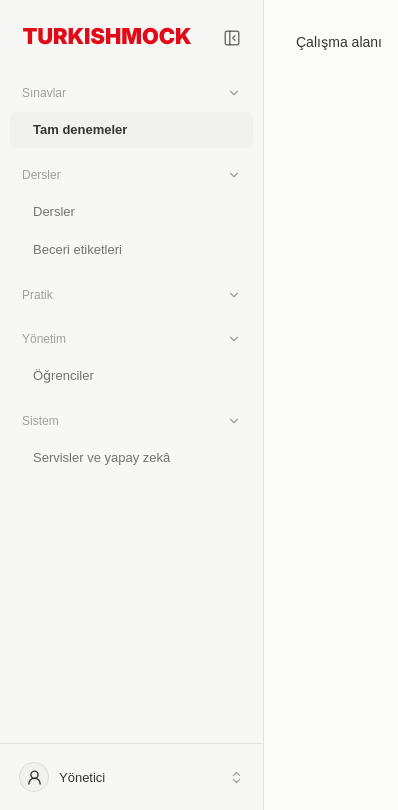
it: collapses groups independently and remembers their state
The width and height of the screenshot is (398, 810).
Click the button "Dersler" at (132, 175), box [10,158,253,192]
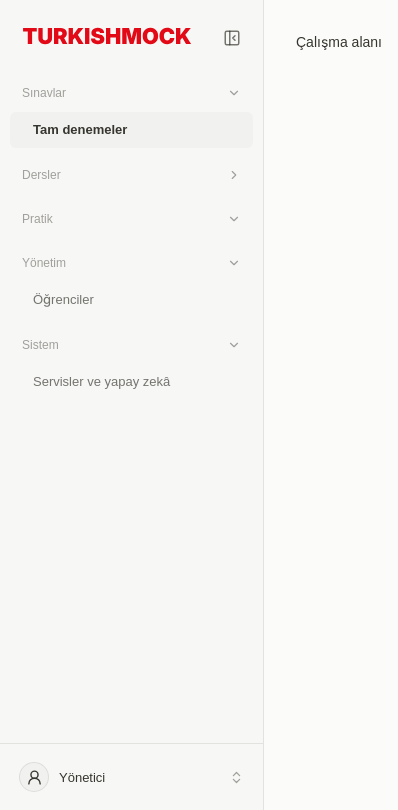
Check: the link "Tam denemeler" is shown, box [10,112,253,148]
Check: the link "Beceri etiketleri" is gone
Click the button "Dersler" at (132, 175), box [10,158,253,192]
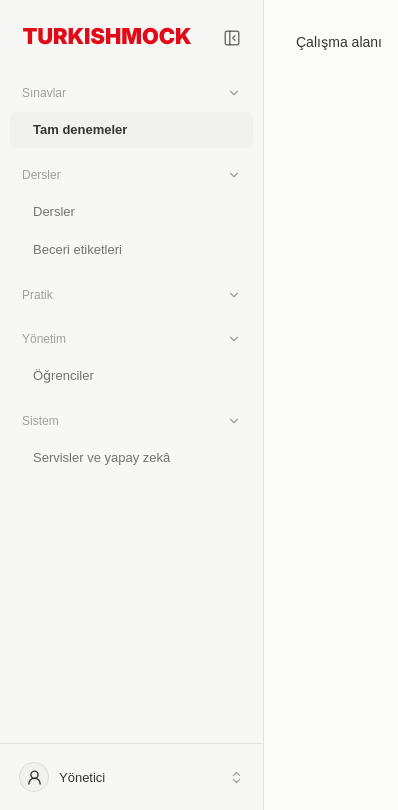
Check: the link "Beceri etiketleri" is shown, box [33,242,122,257]
